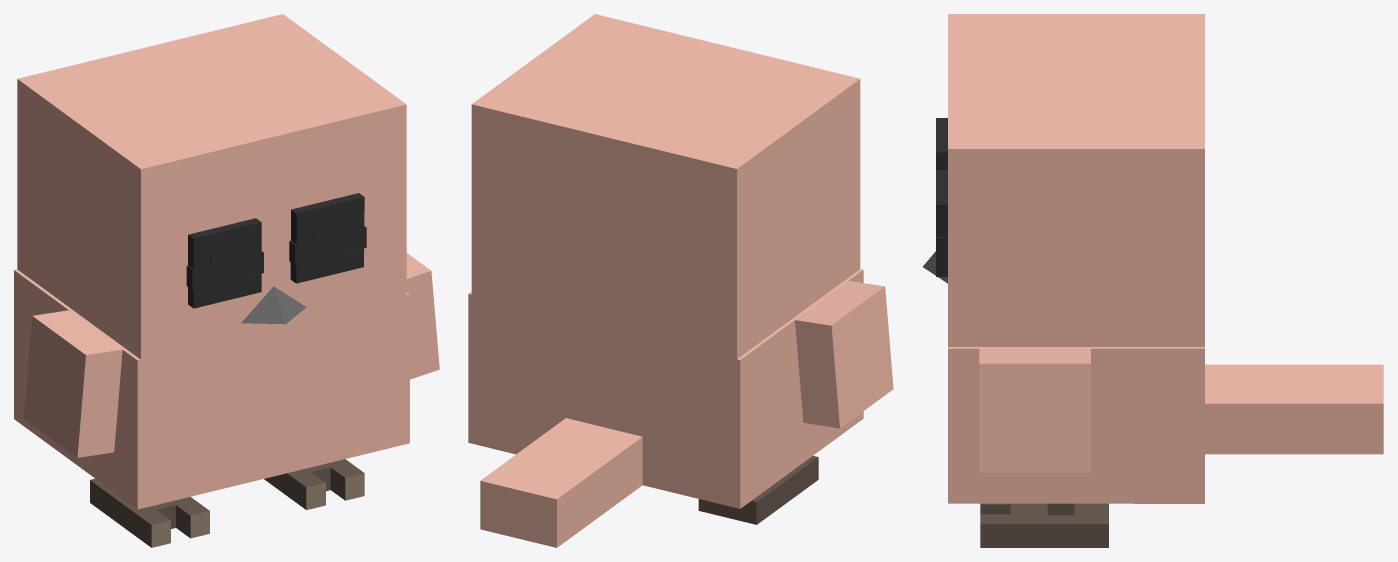
3 renders of one model, left to right at view 1: azimuth 30°, elevation 25°; view 2: azimuth 150°, elevation 25°; view 3: azimuth 270°, elevation 25°, orthographic. The views are drawn at different scales.
Visible parts, largest first — view 1: Ch_15_Head, Ch_15, Ch_15_Wing_L, Ch_15_Leg_L, Ch_15_Eye_01, Ch_15_Eye_03_R, Ch_15_Wing_R, Ch_15_Leg_R, Ch_15_Eye_03_L, Ch_15_Eye_02; view 2: Ch_15_Head, Ch_15, Ch_15_Wing_L, Ch_15_Leg_L; view 3: Ch_15_Head, Ch_15, Ch_15_Wing_R, Ch_15_Leg_R, Ch_15_Eye_03_R, Ch_15_Eye_03_L.
Part boxes in pixels (<box>): Ch_15_Head: <box>17,14,406,359</box>; Ch_15: <box>14,269,409,509</box>; Ch_15_Wing_L: <box>24,310,122,457</box>; Ch_15_Leg_L: <box>90,478,209,547</box>; Ch_15_Eye_01: <box>210,208,347,296</box>; Ch_15_Eye_03_R: <box>290,193,364,283</box>; Ch_15_Wing_R: <box>406,253,439,379</box>; Ch_15_Leg_R: <box>264,459,364,509</box>; Ch_15_Eye_03_L: <box>188,218,261,308</box>; Ch_15_Eye_02: <box>186,226,366,290</box>; Ch_15_Head: <box>471,14,860,359</box>; Ch_15: <box>468,269,863,547</box>; Ch_15_Wing_L: <box>795,281,893,428</box>; Ch_15_Leg_L: <box>698,455,818,524</box>; Ch_15_Head: <box>923,14,1204,346</box>; Ch_15: <box>948,347,1383,503</box>; Ch_15_Wing_R: <box>979,348,1090,472</box>; Ch_15_Leg_R: <box>980,503,1108,547</box>; Ch_15_Eye_03_R: <box>936,170,947,276</box>; Ch_15_Eye_03_L: <box>936,118,947,169</box>.
Size of the model in its own units: 8.91 by 9.32 by 9.44.
